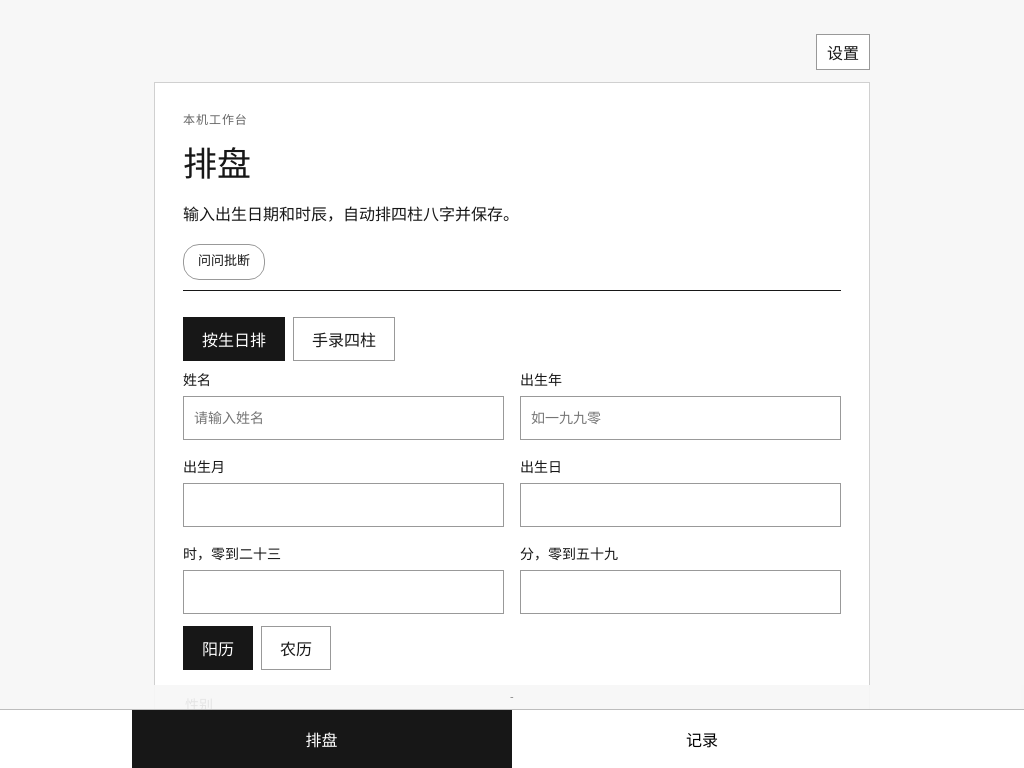
界面正文纯中文(整树穷举) › 存量脏姓名：测试期建的拉丁/数字名(如 T_SOL_01)也必须读成中文，不得原样上屏
Click the button with class "nav-item" showing "记录" at (702,739), box [512,710,892,767]
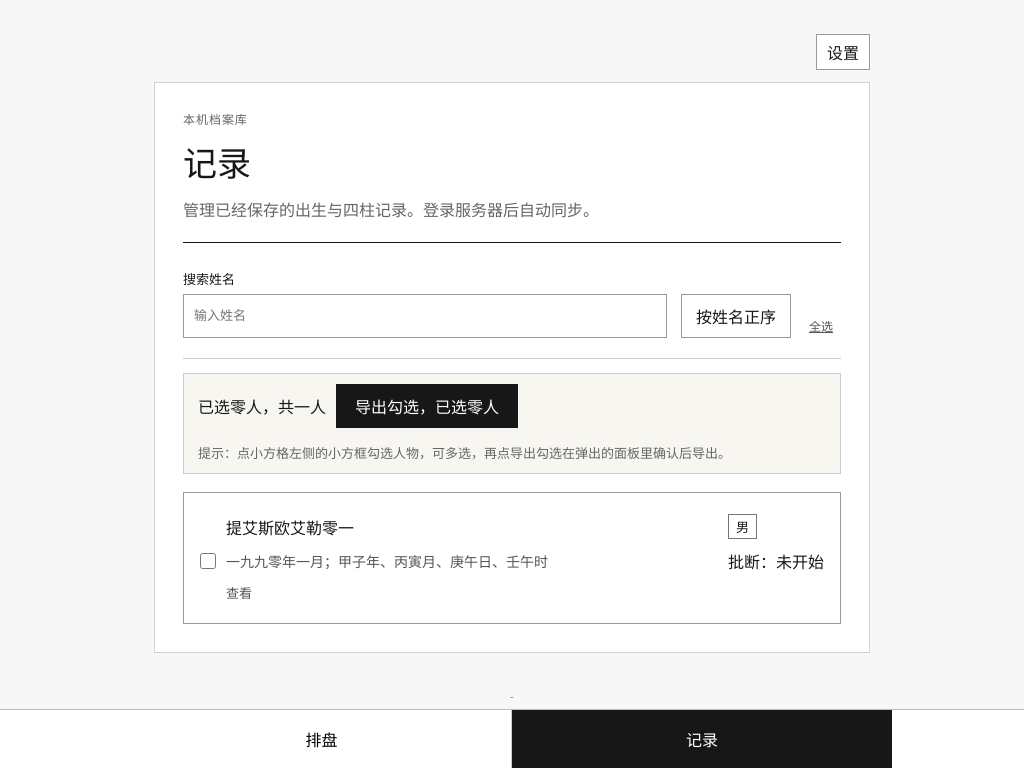
Check: the 5th button is shown
Click the 5th button at (525,558), box [226,514,824,602]
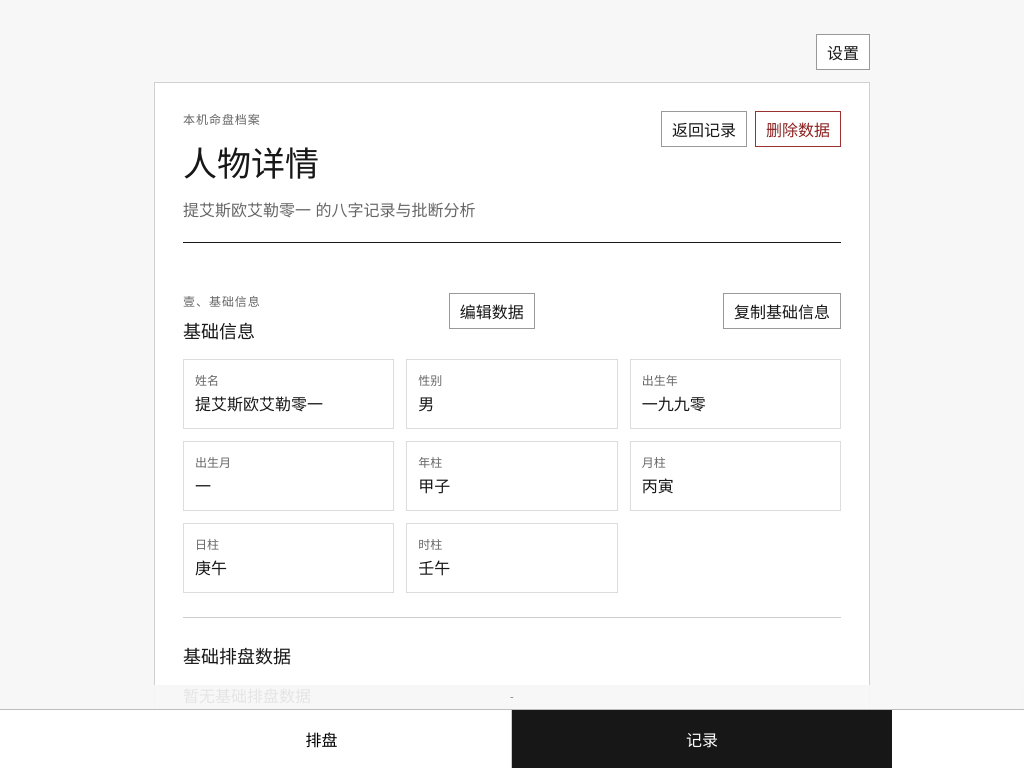
Check: the heading "人物详情" is shown, box [183,145,319,183]
